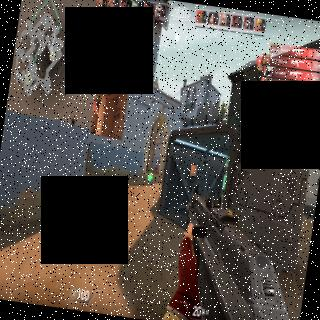ENEMY-BODY: (154, 158, 158, 174)
ENEMY-HEAD: (156, 158, 158, 162)
